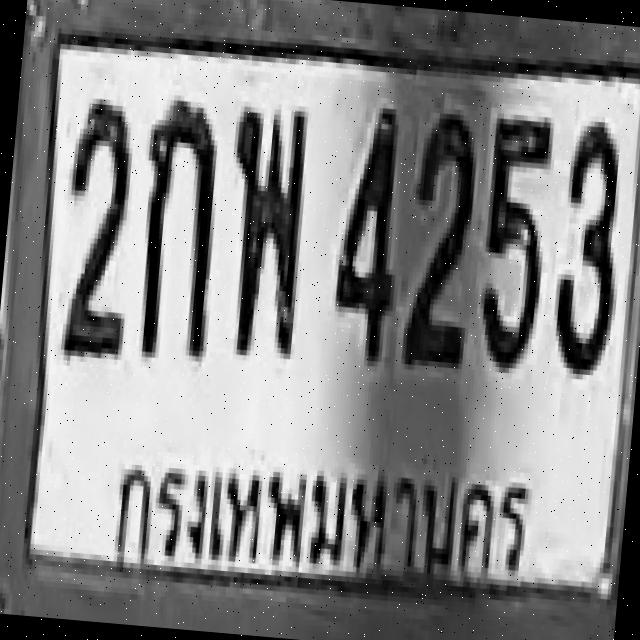10GorGai: (130, 95, 226, 358)
2: (54, 96, 140, 359), (399, 108, 482, 366)
3: (548, 114, 628, 376)
39PhorPan: (217, 101, 313, 359)
4: (328, 100, 408, 362)
5: (474, 113, 556, 370)
Bangkok: (101, 423, 533, 603)
